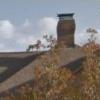Chimney: (48, 8, 82, 51)
